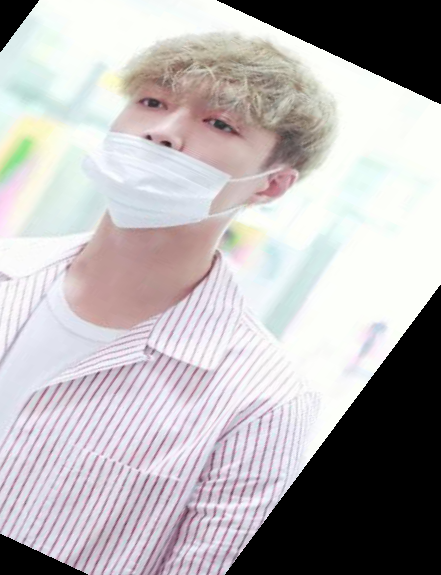mask_weared_incorrect: (66, 19, 335, 238)
